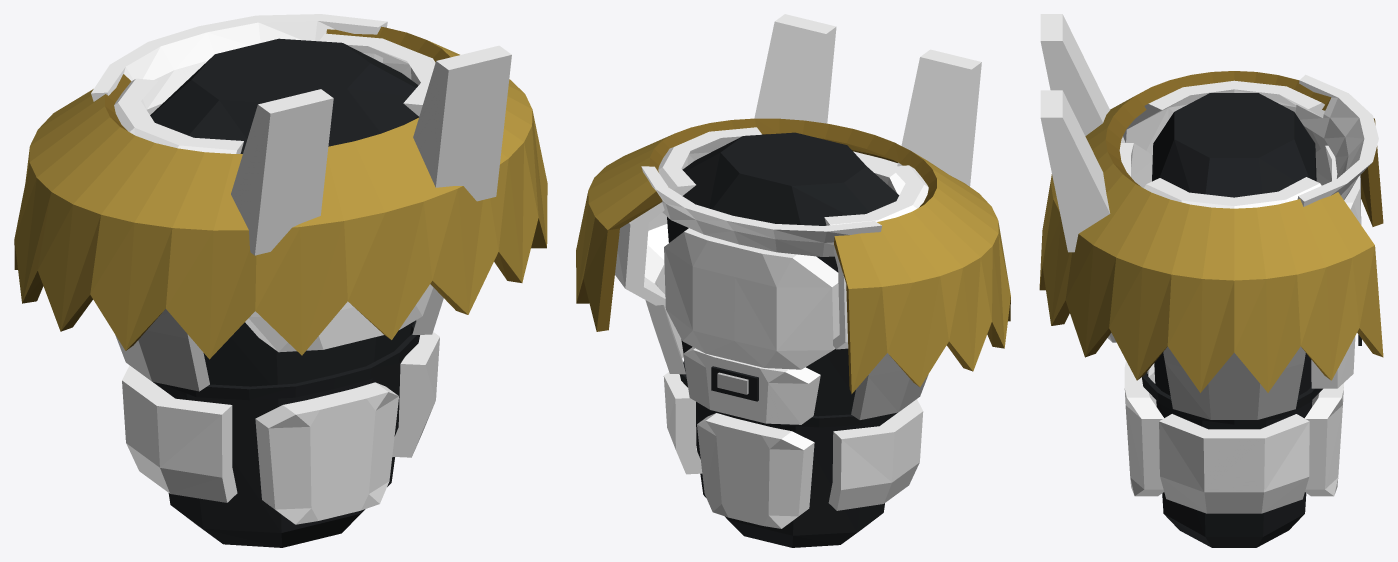
File: person_male_armor_cataphract_prestige.obj
3 renders of one model, left to right at view 1: azimuth 30°, elevation 25°; view 2: azimuth 150°, elevation 25°; view 3: azimuth 270°, elevation 25°, orthographic. The views are drawn at different scales.
Visible parts, largest first — view 1: person_male_armor_cataphract_prestige, person_male_armor_cataphract_prestige_addons; view 2: person_male_armor_cataphract_prestige, person_male_armor_cataphract_prestige_addons; view 3: person_male_armor_cataphract_prestige, person_male_armor_cataphract_prestige_addons.
Boxes of the visible parts, x1,y1,x2,y2 form: person_male_armor_cataphract_prestige: (91,14,511,547); person_male_armor_cataphract_prestige_addons: (14,26,547,359); person_male_armor_cataphract_prestige: (615,14,981,547); person_male_armor_cataphract_prestige_addons: (576,118,1010,393); person_male_armor_cataphract_prestige: (1040,14,1378,547); person_male_armor_cataphract_prestige_addons: (1039,71,1383,392).
Size of the model in its own units: 0.8464 by 0.855 by 0.5897.
